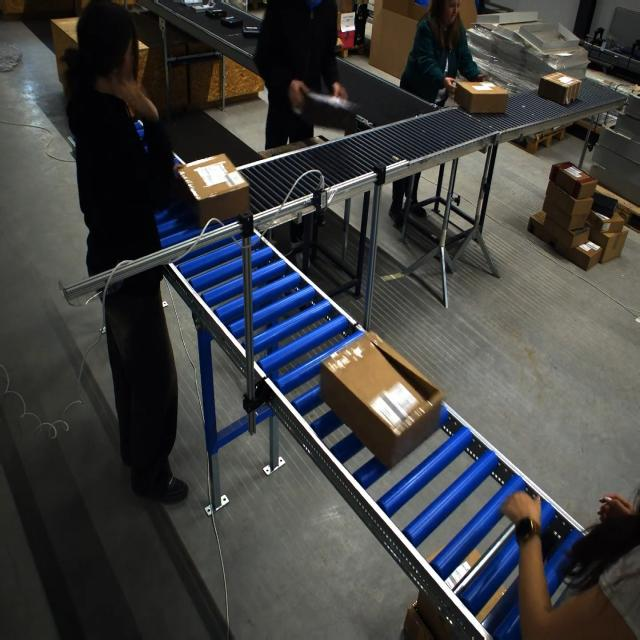box: (328, 346, 433, 455), (174, 153, 247, 227), (453, 80, 509, 114)
product: (220, 15, 243, 28), (241, 24, 260, 37), (205, 8, 227, 19), (191, 3, 214, 11), (129, 4, 147, 14), (182, 0, 203, 6)
